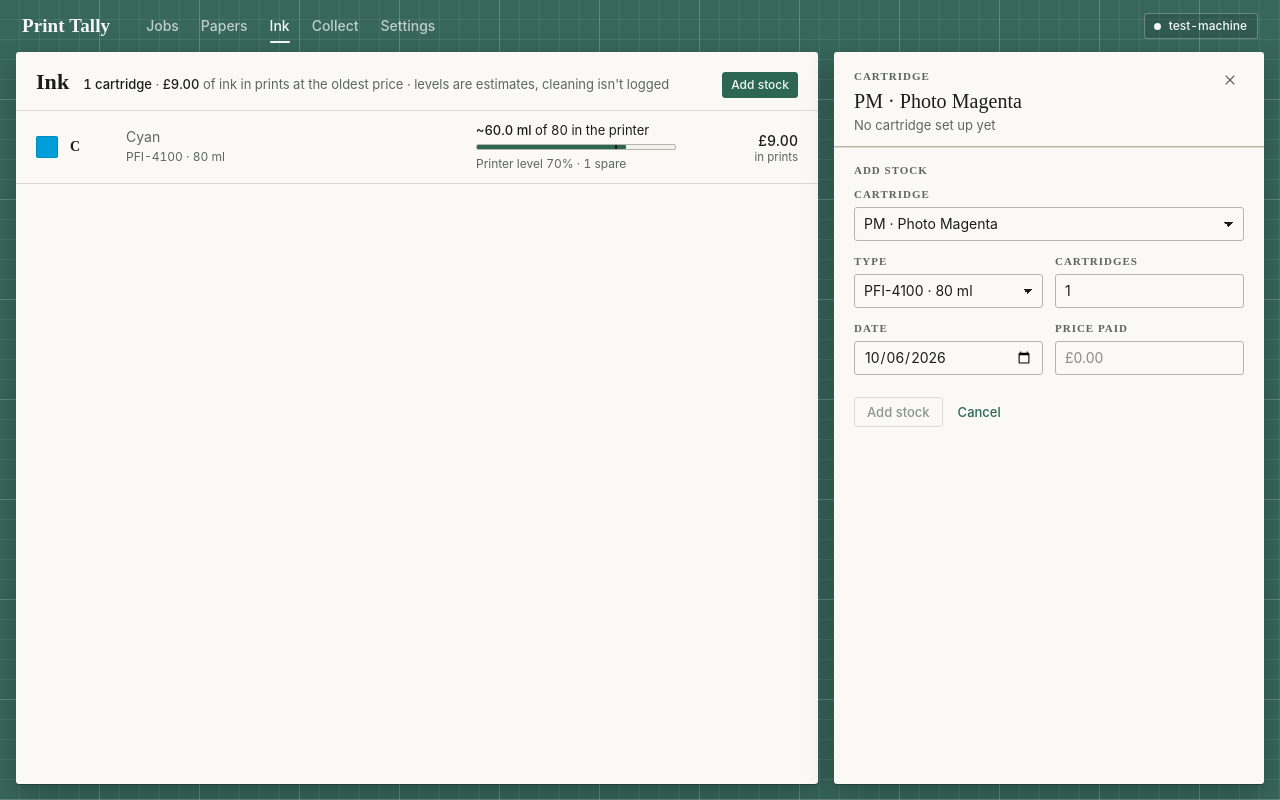
buying a previously unseen channel creates its product and purchase together
Expected: the dropdown labelled "Type" shows "PFI-4100 · 80 ml", [854, 274, 1043, 308]
Type "42" into the field labelled "Price paid" at (1150, 358), box [1055, 341, 1244, 375]
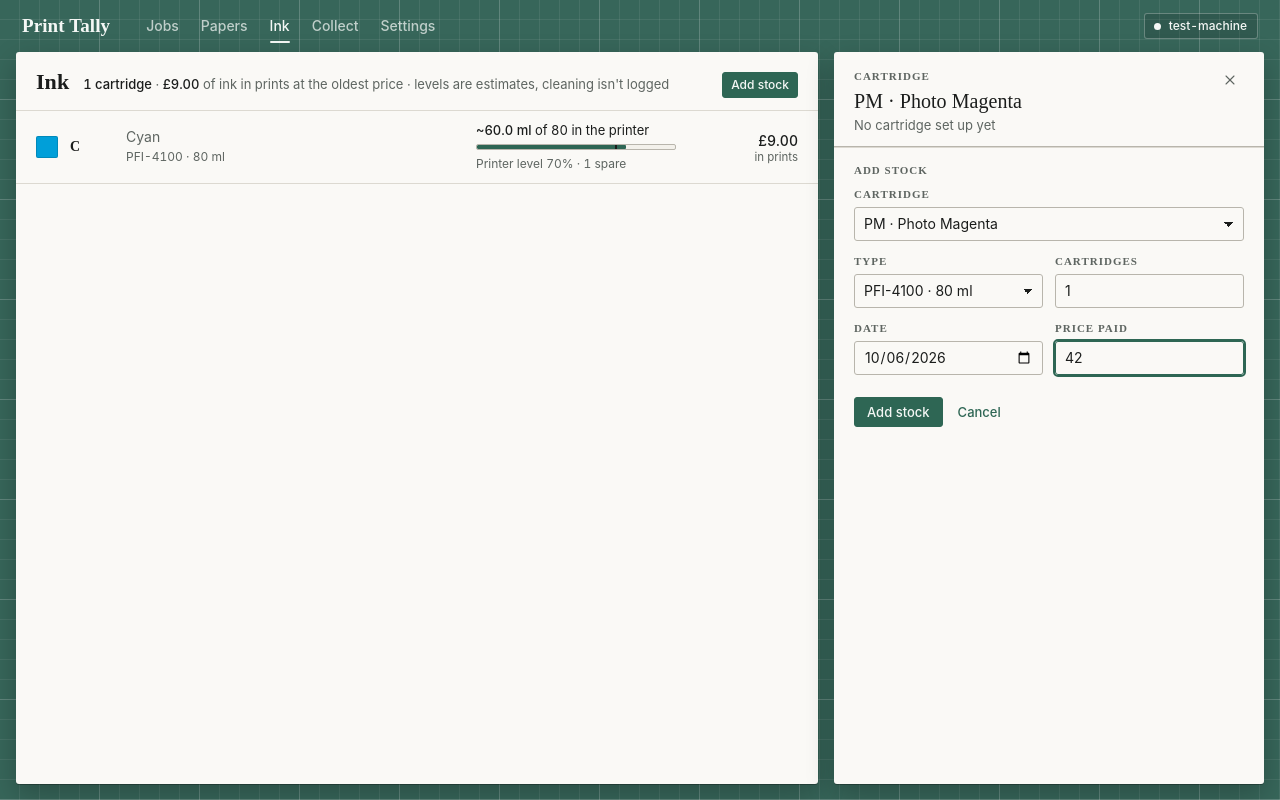
Click the button "Add stock" at (898, 412), box [854, 397, 943, 427]
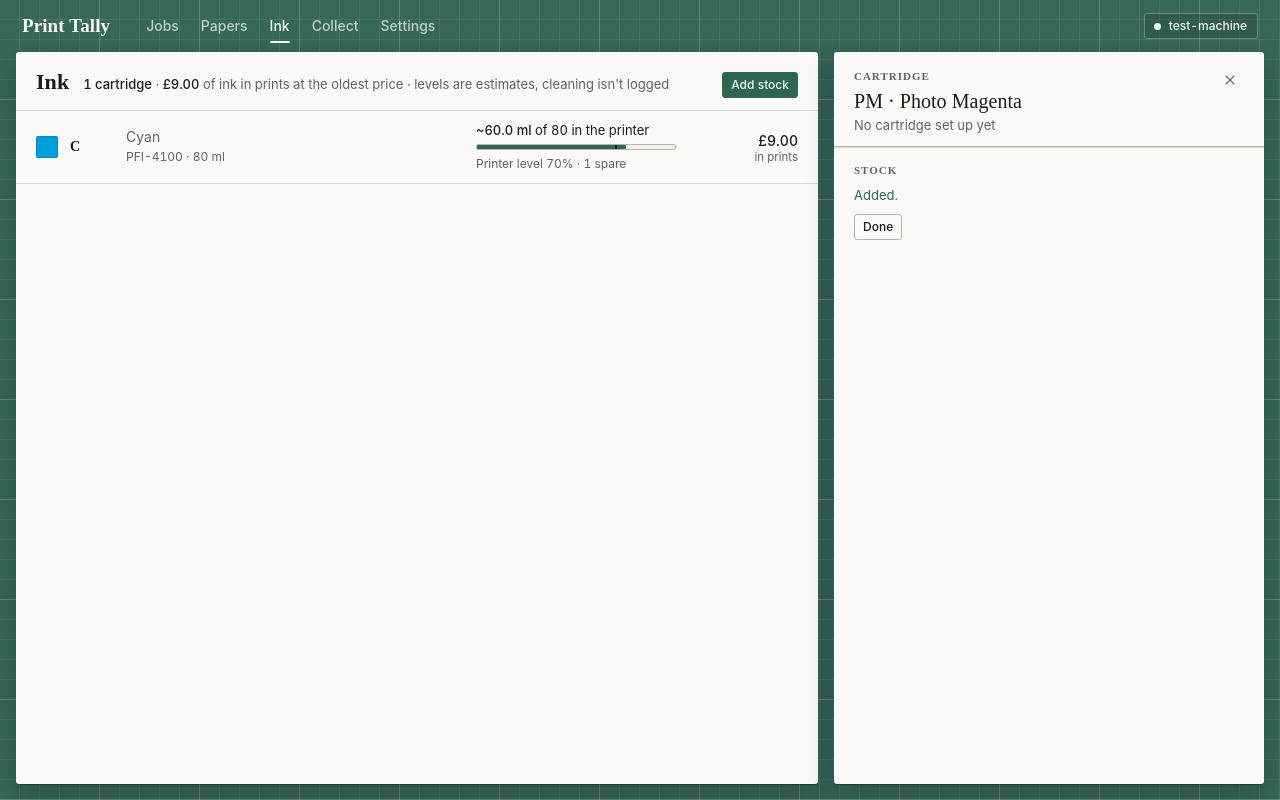
Result: the text "Added." is shown at [854, 187, 898, 203]
